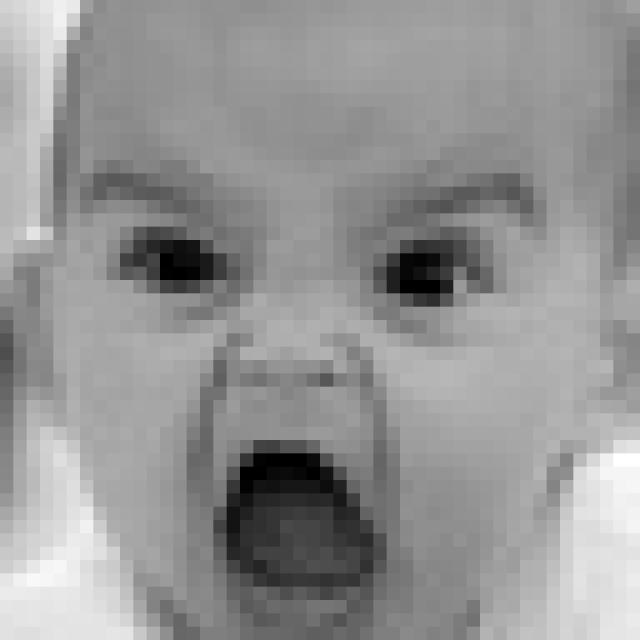angry: (70, 161, 563, 636)
